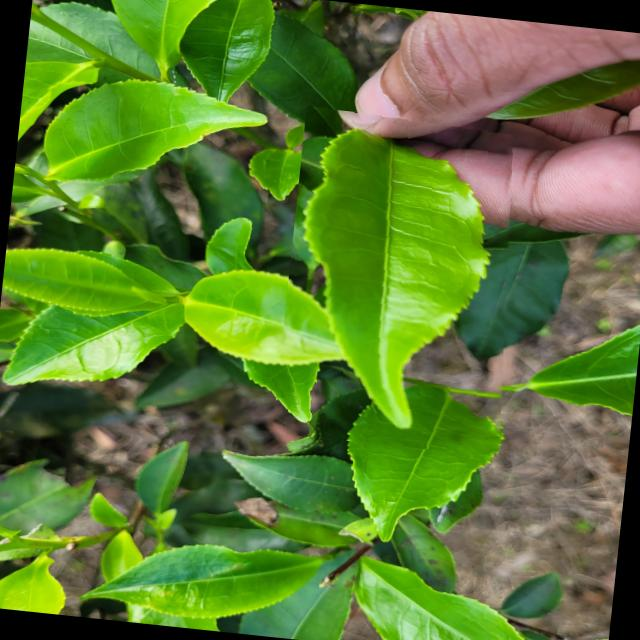Category B(2-4 days): (272, 103, 533, 455)
